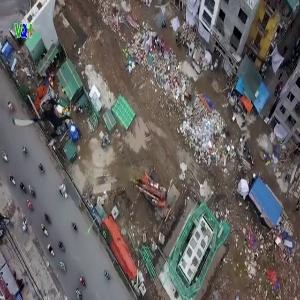drone: (13, 87, 76, 150)
